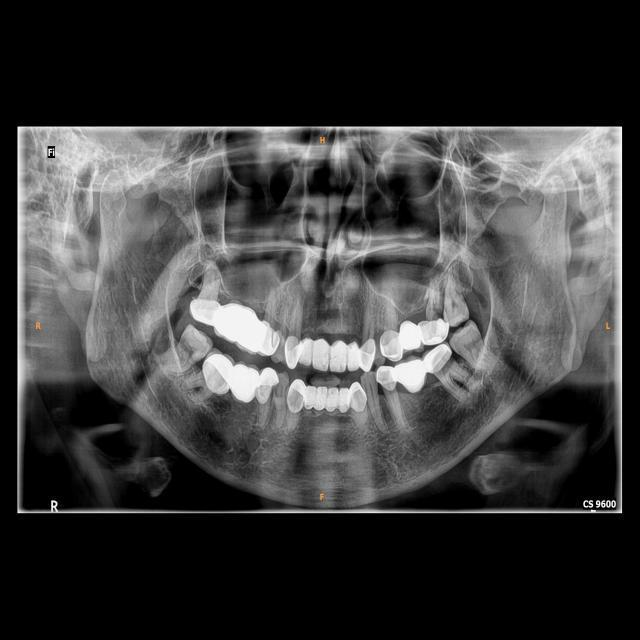kaplama: (249, 318, 288, 366), (182, 291, 227, 331), (420, 336, 456, 378), (200, 349, 232, 396), (378, 326, 404, 364), (420, 314, 450, 346), (255, 363, 277, 405), (284, 330, 302, 373), (286, 376, 303, 420), (376, 362, 397, 394), (350, 380, 368, 416), (363, 337, 379, 373)
kopru: (208, 295, 279, 363), (391, 343, 450, 402), (218, 348, 272, 406), (299, 332, 368, 376), (299, 376, 359, 421), (391, 317, 437, 350)
